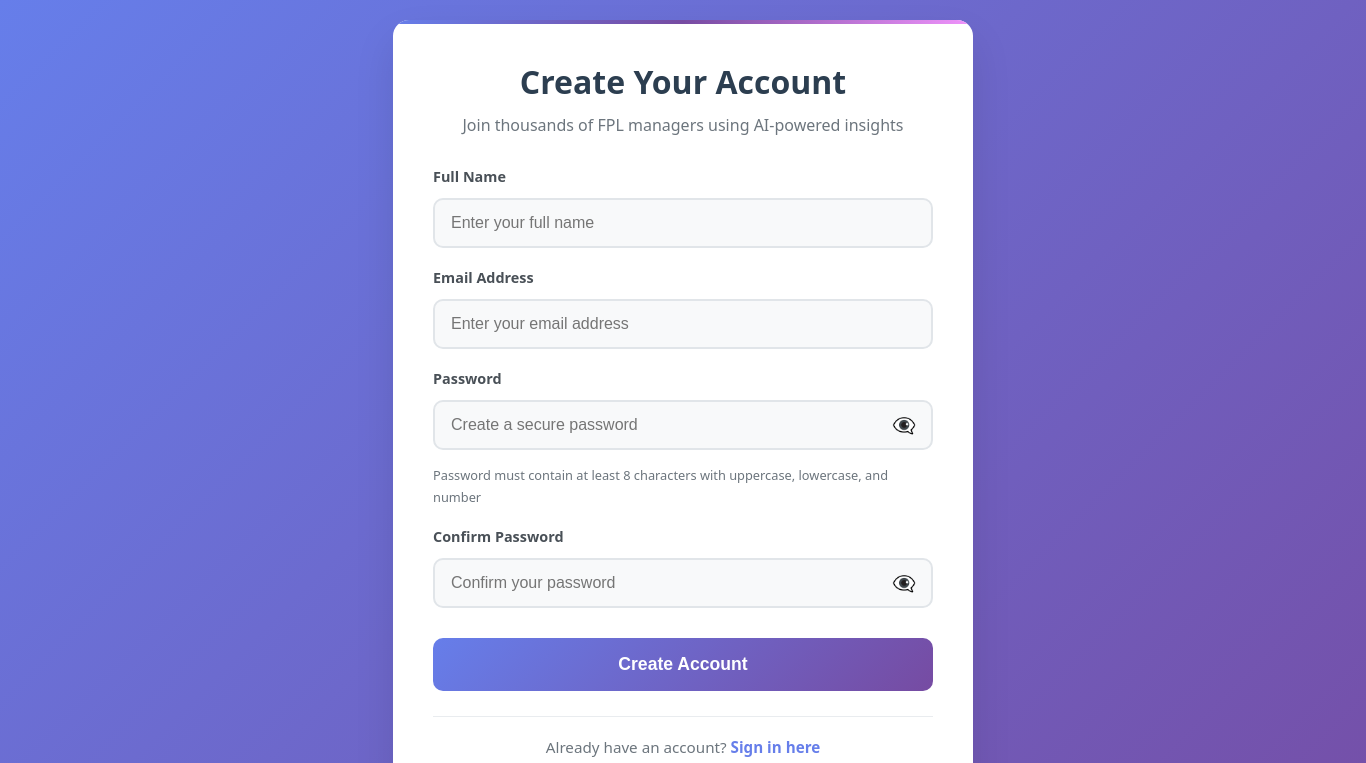
Test case: shows validation errors for empty register submit
This screenshot has width=1366, height=763.
Click the button "Create Account" at {"x": 683, "y": 664}, box [433,638,933,691]
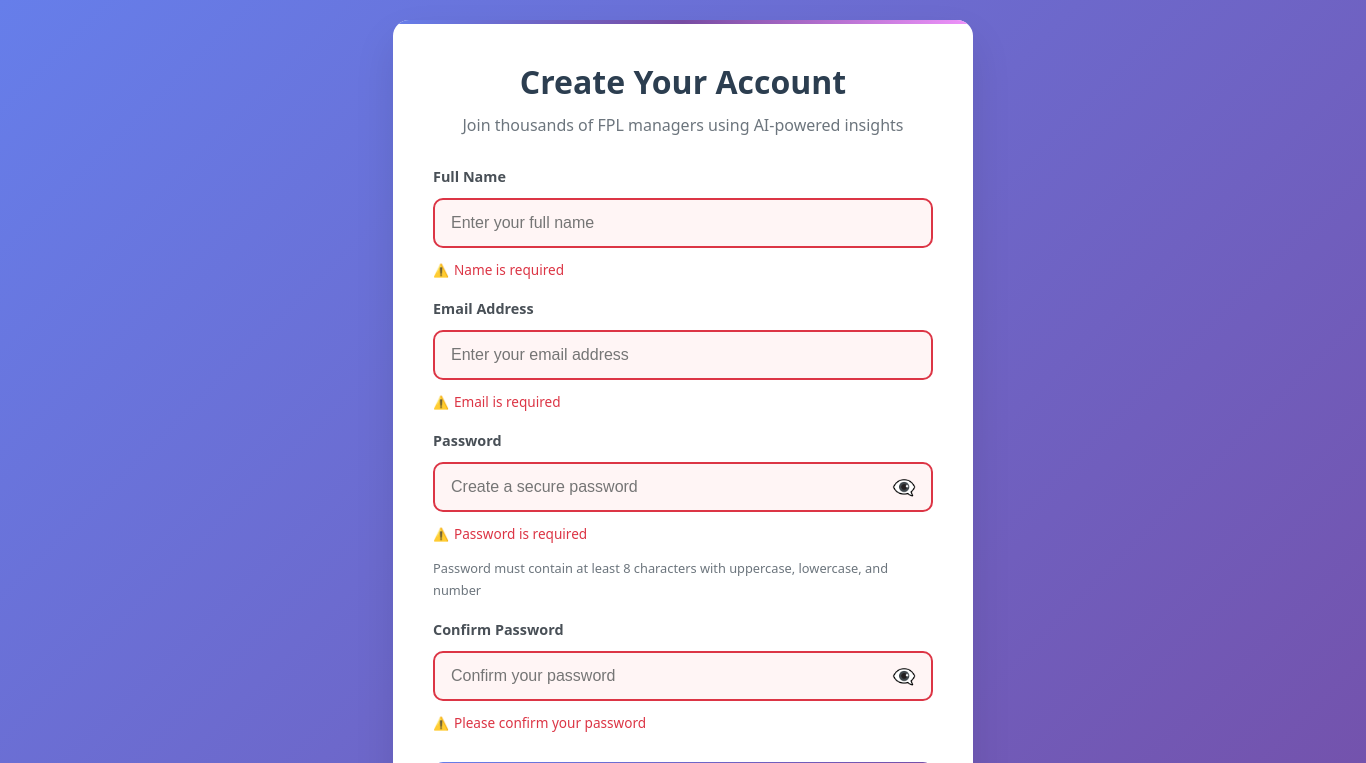
Check: the text "Name is required" is shown, box [454,260,564,279]
Check: the text "Email is required" is shown, box [454,392,561,411]
